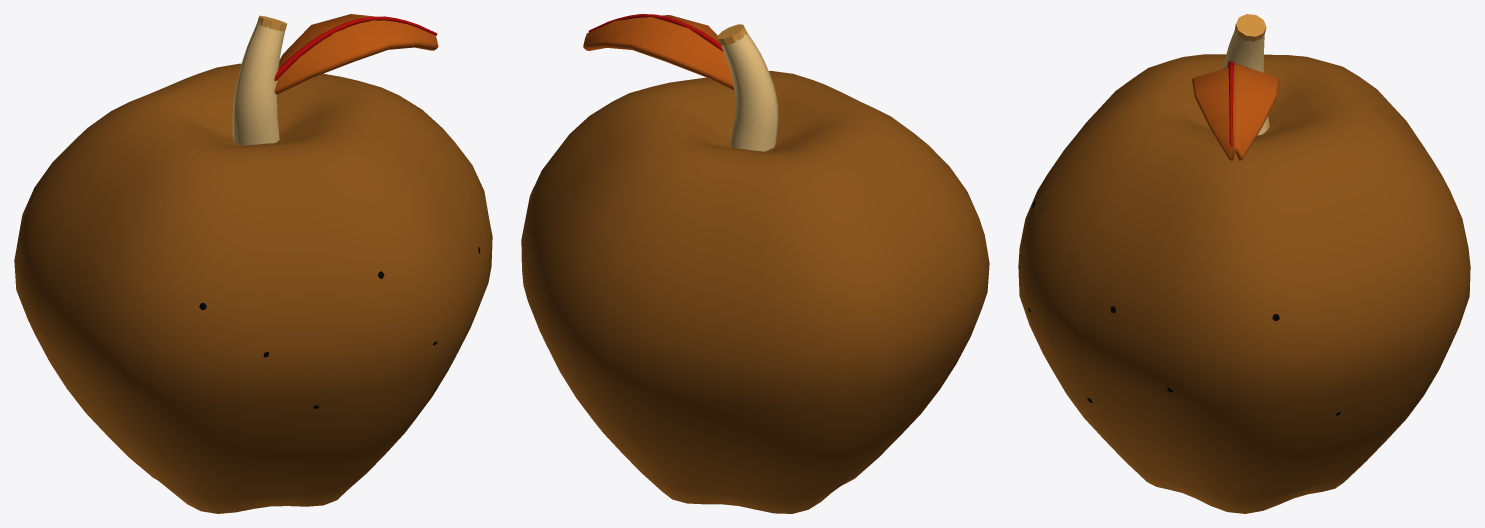
The model's file is apple.fbx.
3 views of the same model, side by side, from view 1: azimuth 30°, elevation 25°; view 2: azimuth 150°, elevation 25°; view 3: azimuth 270°, elevation 25° (orthographic). The views are drawn at different scales.
Parts seen in each view (by area): view 1: apple; view 2: apple; view 3: apple.
Part boxes in pixels (bbox=[...]): apple: bbox=[14, 14, 492, 513]; apple: bbox=[521, 14, 989, 513]; apple: bbox=[1018, 14, 1470, 513].
Bounding box in the file's own units: 95.42 × 100 × 88.08.
